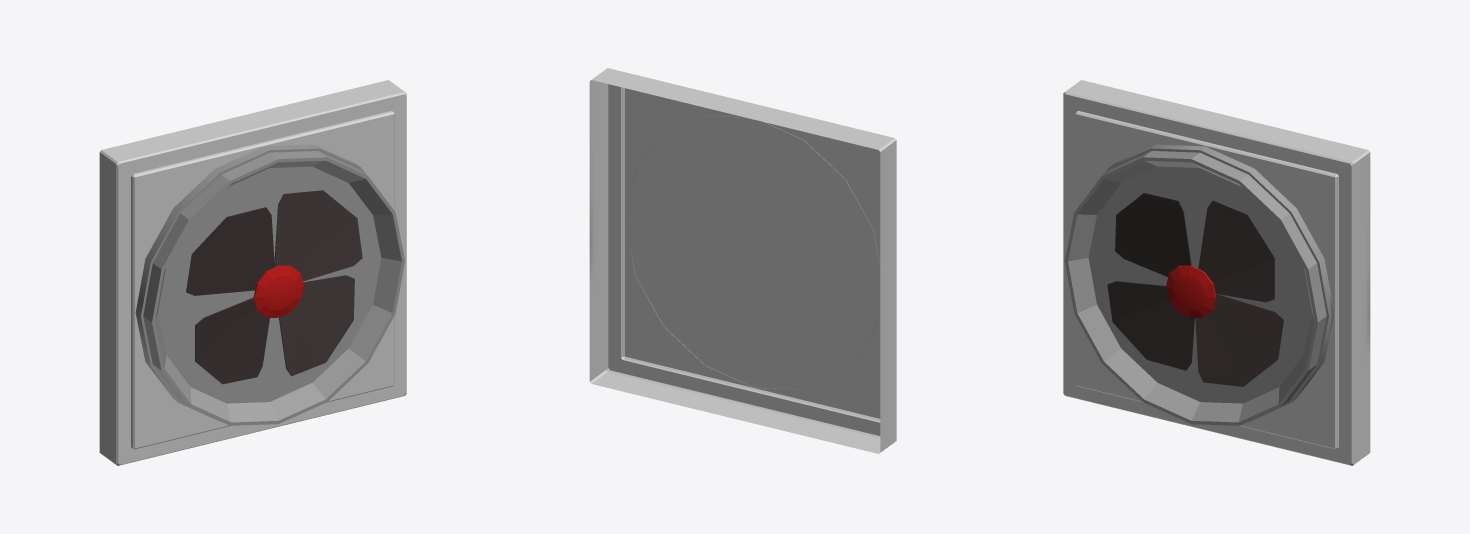
File: Fan.fbx
The picture shows the model from 3 angles, left to right: view 1: azimuth 30°, elevation 25°; view 2: azimuth 150°, elevation 25°; view 3: azimuth 330°, elevation 25°; orthographic projection.
Visible parts, largest first — view 1: fanConneter_01, fan_01; view 2: fanConneter_01; view 3: fanConneter_01, fan_01.
Part boxes in pixels (bbox=[...]): fanConneter_01: bbox=[99, 80, 406, 465]; fan_01: bbox=[186, 190, 362, 384]; fanConneter_01: bbox=[589, 68, 896, 453]; fanConneter_01: bbox=[1063, 80, 1370, 465]; fan_01: bbox=[1107, 193, 1283, 386].
Bounding box in the file's own units: 270 × 220 × 37.8.
